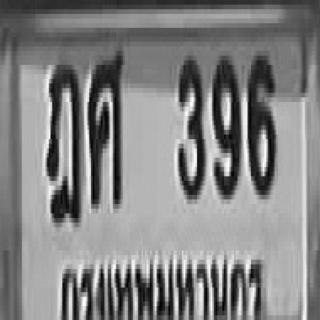A14: (45, 60, 79, 218)
A38: (88, 46, 121, 204)
N03: (177, 51, 204, 195)
N06: (246, 51, 275, 195)
N09: (210, 51, 239, 195)
P04: (56, 245, 268, 320)
